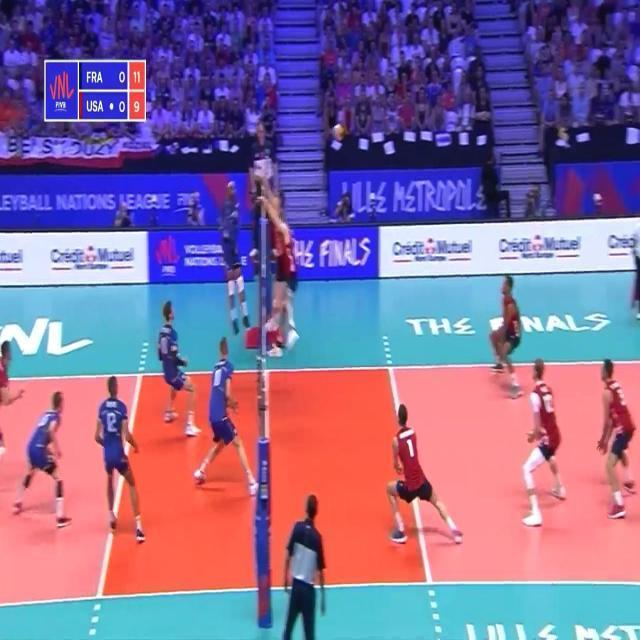volleyball: (332, 124, 344, 141)
